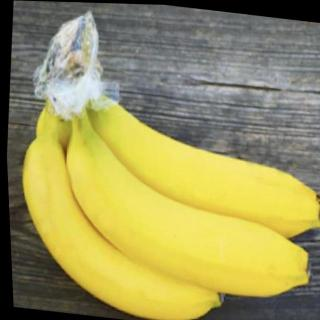banana: (52, 130, 320, 304), (7, 133, 235, 320), (66, 90, 320, 250)
